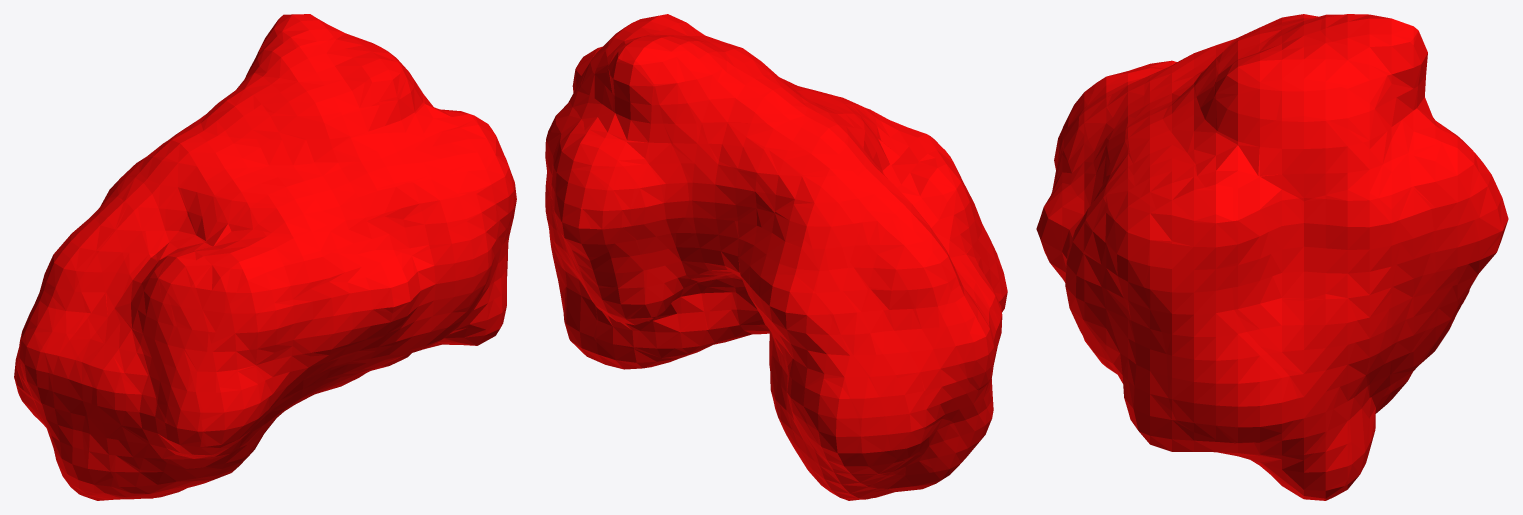
The model's file is srlR_coarse.dae.
The picture shows the model from 3 angles, left to right: view 1: azimuth 30°, elevation 25°; view 2: azimuth 150°, elevation 25°; view 3: azimuth 270°, elevation 25°; orthographic projection. The views are drawn at different scales.
Visible parts, largest first — view 1: srlR; view 2: srlR; view 3: srlR.
Part boxes in pixels (x1,y1,x2,y2): srlR: (14, 14, 516, 500); srlR: (545, 14, 1007, 500); srlR: (1036, 14, 1508, 500).
Bounding box in the file's own units: 58.87 × 52.65 × 42.36.
